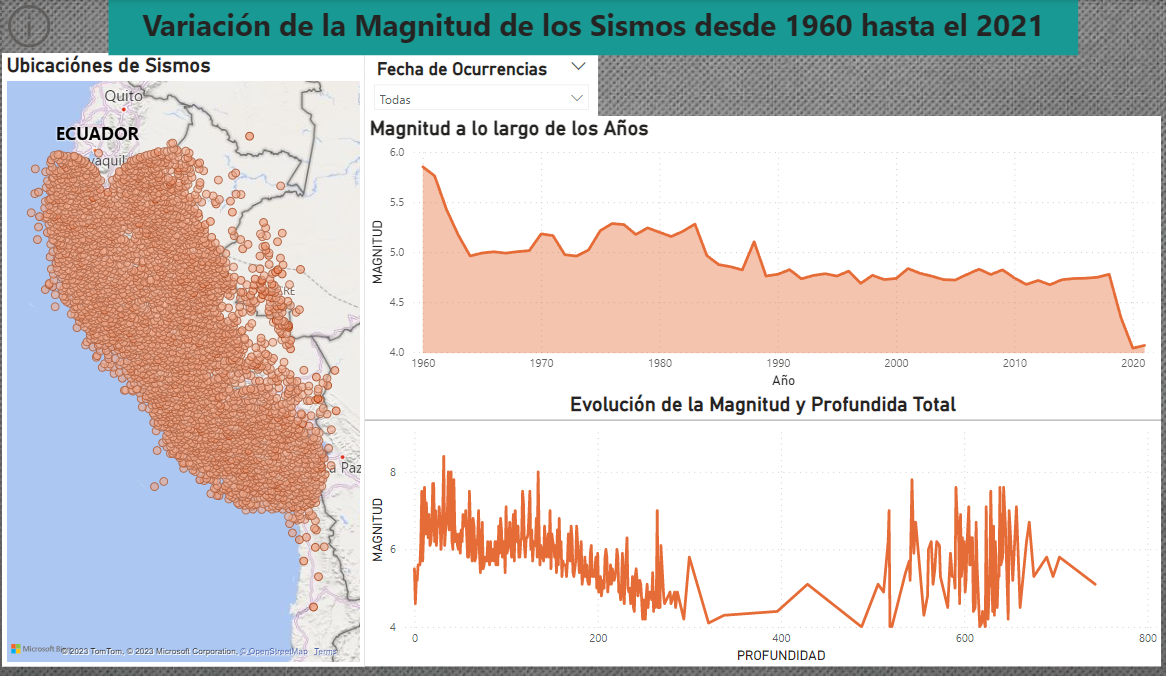

What the dashboard file says about the page in this screenshot:
{"tool":"powerbi","page":{"name":"PANEL SISMO","canvas":[1280,720],"ordinal":1},"visuals":[{"type":"map","title":"Ubicaciónes de Sismos","fields":{"Y":["Catalogo1960_2021_limpiado.LATITUD"],"X":["Catalogo1960_2021_limpiado.LONGITUD"]},"box":[0,58.4,391.4,662.1],"z":0},{"type":"slicer","fields":{"Values":["Catalogo1960_2021_limpiado.FECHA_UTC.Variación.Jerarquía de fechas.Año","Catalogo1960_2021_limpiado.FECHA_UTC.Variación.Jerarquía de fechas.Mes","Catalogo1960_2021_limpiado.FECHA_UTC.Variación.Jerarquía de fechas.Día"]},"box":[391.4,58.4,251.2,68.2],"z":1000},{"type":"lineChart","title":"Evolución de la Magnitud y Profundida Total ","fields":{"Y":["Max(Catalogo1960_2021_limpiado.MAGNITUD)"],"Category":["Catalogo1960_2021_limpiado.PROFUNDIDAD"]},"box":[391.4,424.5,858.7,296],"z":2000},{"type":"actionButton","box":[0,0,77.5,58.6],"z":3000},{"type":"textbox","box":[114.9,0,1045.7,60.4],"z":4000},{"type":"areaChart","title":"Magnitud a lo largo de los Años","fields":{"Y":["Avg(Catalogo1960_2021_limpiado.MAGNITUD)"],"Category":["Catalogo1960_2021_limpiado.FECHA_UTC.Variación.Jerarquía de fechas.Año"]},"box":[391.4,126.6,858.7,297.9],"z":6000}]}

Visuals, with their boxes in screenshot pixels (x1, y1, x2, y2), scaled from the page's 1280x720 canvas onto the 1166x676 screenshot:
"Ubicaciónes de Sismos" map: region(0, 55, 357, 675)
slicer - Catalogo1960_2021_limpiado.FECHA_UTC.Variación.Jerarquía de fechas.Año x Catalogo1960_2021_limpiado.FECHA_UTC.Variación.Jerarquía de fechas.Mes: region(357, 55, 585, 119)
"Evolución de la Magnitud y Profundida Total " lineChart: region(357, 399, 1139, 675)
actionButton: region(0, 0, 71, 55)
textbox: region(105, 0, 1057, 57)
"Magnitud a lo largo de los Años" areaChart: region(357, 119, 1139, 399)
